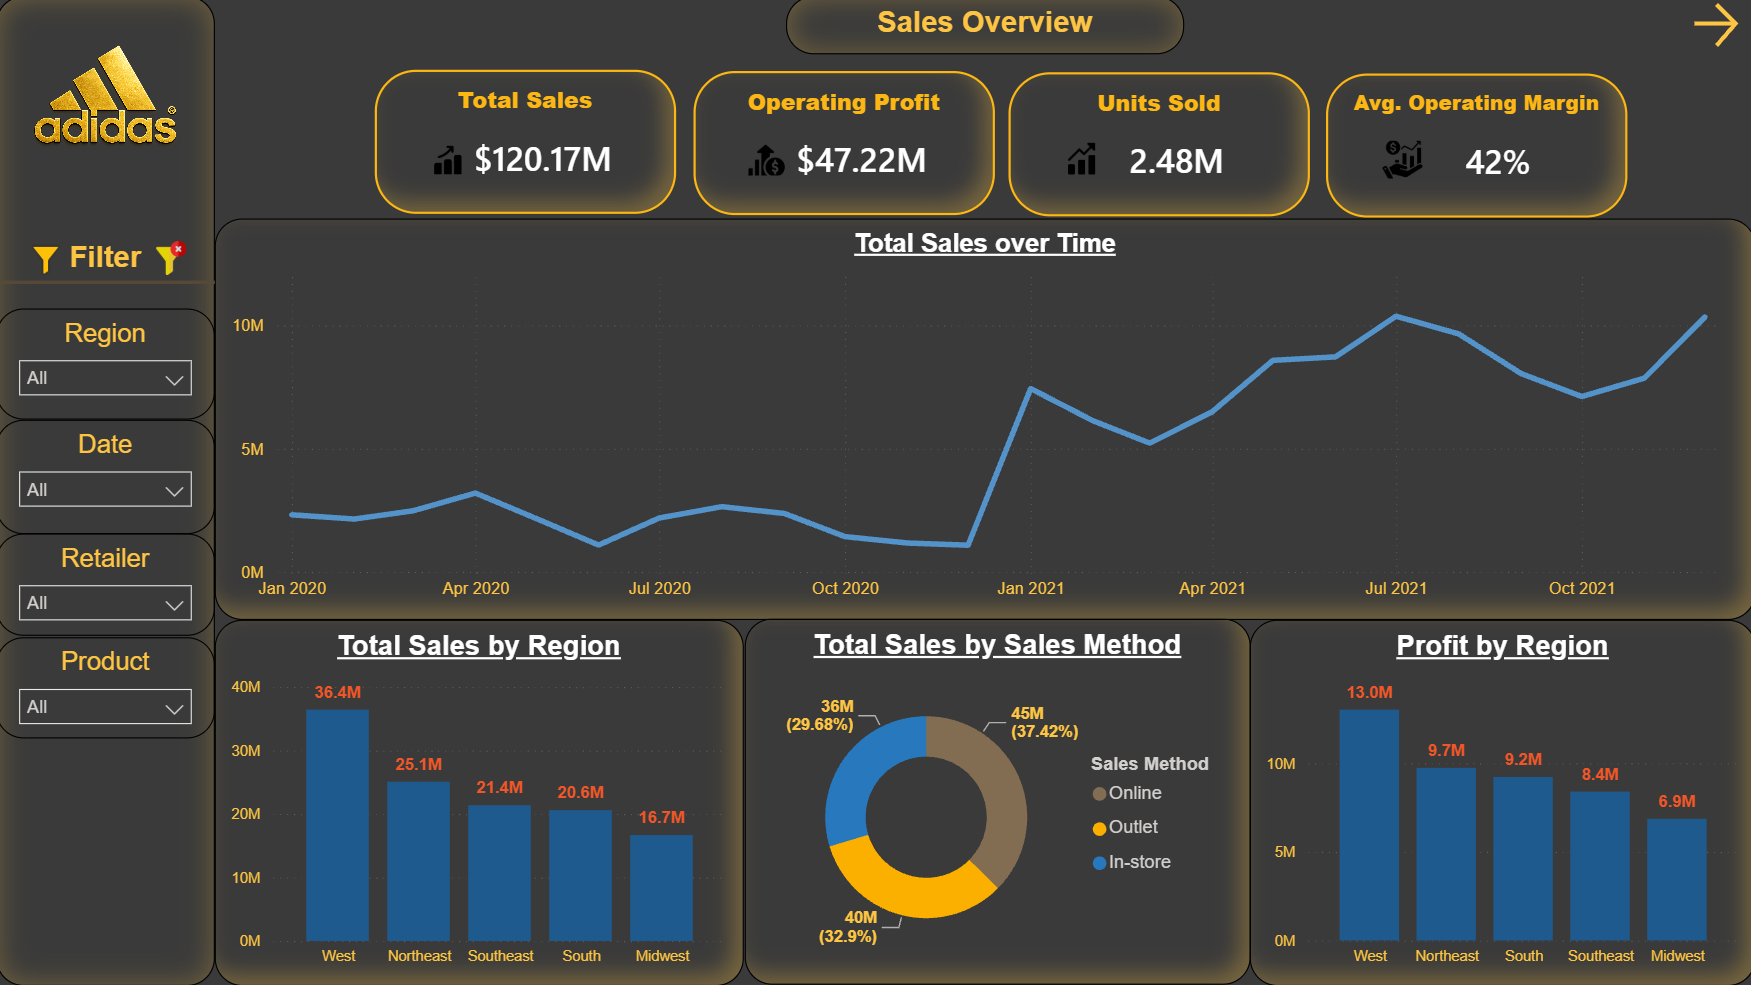

This screenshot's page, from the dashboard's own definition file:
{"tool":"powerbi","page":{"name":"Sales Overview","canvas":[1280,720],"ordinal":1},"visuals":[{"type":"shape","box":[0,0,159.3,720.2],"z":0},{"type":"slicer","title":"Product","fields":{"Values":["Adidas Sales.Product"]},"box":[0,465.7,159.3,73.6],"z":0,"group":"g1"},{"type":"cardVisual","title":"Total Sales","fields":{"Data":["Sum(Adidas Sales.Total Sales)"]},"box":[275.6,54,219.6,105],"z":1000},{"type":"slicer","title":"Retailer","fields":{"Values":["Adidas Sales.Retailer"]},"box":[0,390.9,159.3,74.8],"z":1000,"group":"g1"},{"type":"slicer","title":"Date","fields":{"Values":["Adidas Sales.Invoice Date.Variation.Date Hierarchy.Year","Adidas Sales.Invoice Date.Variation.Date Hierarchy.Month"]},"box":[0,307.7,159.3,83.2],"z":2000,"group":"g1"},{"type":"donutChart","title":"Total Sales by Sales Method","fields":{"Category":["Adidas Sales.Sales Method"],"Y":["Sum(Adidas Sales.Total Sales)"]},"box":[544.1,452.4,368,266.6],"z":2000},{"type":"slicer","title":"Region","fields":{"Values":["Adidas Sales.Region","Adidas Sales.City"]},"box":[0,226.9,159.3,80.8],"z":3000,"group":"g1"},{"type":"clusteredColumnChart","title":"Total Sales by Region","fields":{"Category":["Adidas Sales.Region"],"Y":["Sum(Adidas Sales.Total Sales)"]},"box":[159.3,453.6,384.9,266.6],"z":3000},{"type":"lineChart","title":"Total Sales over Time","fields":{"Category":["Adidas Sales.Invoice Date.Variation.Date Hierarchy.Year","Adidas Sales.Invoice Date.Variation.Date Hierarchy.Month"],"Y":["Sum(Adidas Sales.Total Sales)"]},"box":[159.3,161.7,1120.8,292],"z":4000},{"type":"image","box":[105.7,177.9,44.3,25],"z":4000,"group":"g1"},{"type":"cardVisual","title":"Units Sold","fields":{"Data":["Sum(Adidas Sales.Units Sold)"]},"box":[736.4,55.7,219.6,105],"z":5000},{"type":"cardVisual","title":"Operating Profit","fields":{"Data":["Sum(Adidas Sales.Operating Profit)"]},"box":[507.2,54.9,219.6,105],"z":6000},{"type":"clusteredColumnChart","title":"Profit by Region","fields":{"Category":["Adidas Sales.Region"],"Y":["Sum(Adidas Sales.Operating Profit)"]},"box":[912.1,453.6,368.2,266.3],"z":7000},{"type":"cardVisual","title":"Avg. Operating Margin","fields":{"Data":["Avg(Adidas Sales.Operating Margin)"]},"box":[966.8,56.5,219.6,105],"z":8000},{"type":"image","box":[0,14.5,159.3,130.3],"z":9000},{"type":"shape","title":"Filter","box":[0,178.6,159.3,42.2],"z":10000},{"type":"image","title":"show filters","box":[8.3,179.2,55.8,26.7],"z":11000},{"type":"actionButton","box":[1229.3,0,50.7,42.2],"z":12000},{"type":"shape","title":"Sales Overview","box":[574.3,0,289.5,42.2],"z":13000},{"type":"group","id":"g1","title":"filter panel","box":[0,177.9,159.3,361.4],"z":15000}]}

Visuals, with their boxes in screenshot pixels (x1, y1, x2, y2), scaled from the page's 1280x720 canvas onto the 1751x985 screenshot:
shape: (0, 0, 218, 984)
"Product" slicer: (0, 637, 218, 738)
"Total Sales" cardVisual: (377, 74, 677, 218)
"Retailer" slicer: (0, 535, 218, 637)
"Date" slicer: (0, 421, 218, 535)
"Total Sales by Sales Method" donutChart: (744, 619, 1248, 984)
"Region" slicer: (0, 310, 218, 421)
"Total Sales by Region" clusteredColumnChart: (218, 621, 744, 984)
"Total Sales over Time" lineChart: (218, 221, 1750, 621)
image: (145, 243, 205, 278)
"Units Sold" cardVisual: (1007, 76, 1308, 220)
"Operating Profit" cardVisual: (694, 75, 994, 219)
"Profit by Region" clusteredColumnChart: (1248, 621, 1750, 984)
"Avg. Operating Margin" cardVisual: (1323, 77, 1623, 221)
image: (0, 20, 218, 198)
"Filter" shape: (0, 244, 218, 302)
"show filters" image: (11, 245, 88, 282)
actionButton: (1682, 0, 1750, 58)
"Sales Overview" shape: (786, 0, 1182, 58)
"filter panel" group: (0, 243, 218, 738)
